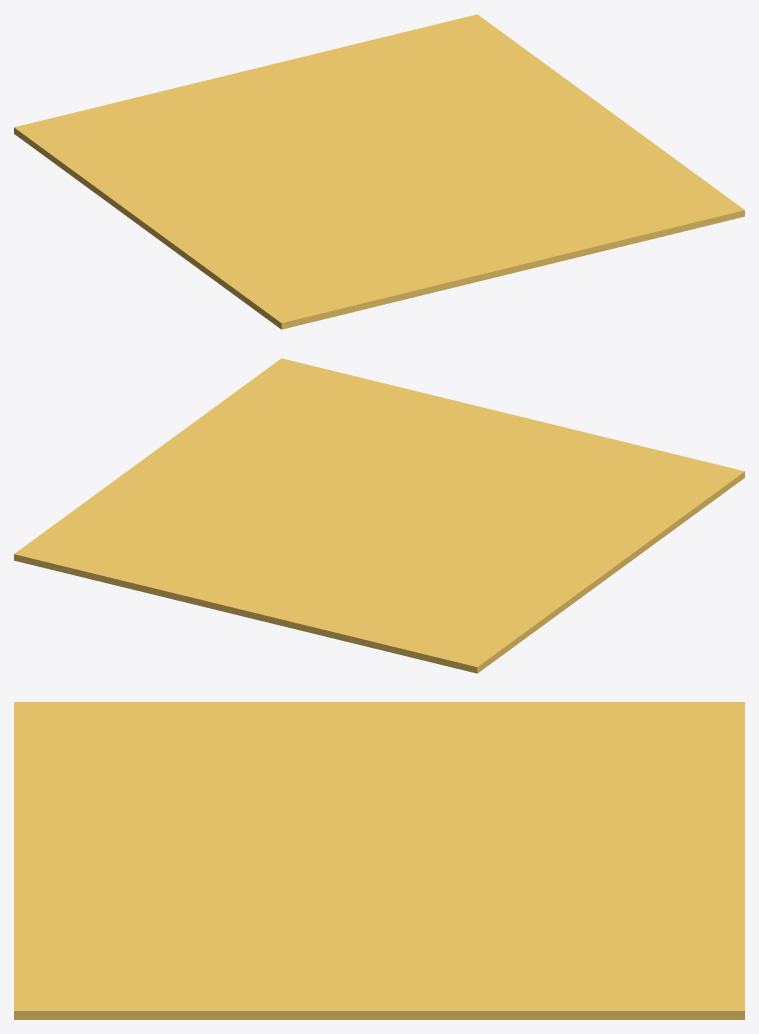
File: cheese.glb
The picture shows the model from 3 angles, top to bottom: view 1: azimuth 30°, elevation 25°; view 2: azimuth 150°, elevation 25°; view 3: azimuth 270°, elevation 25°; orthographic projection. The views are drawn at different scales.
Parts seen in each view (by area): view 1: Cube; view 2: Cube; view 3: Cube.
Part boxes in pixels (x1,y1,x2,y2): Cube: (14, 14, 744, 329); Cube: (14, 358, 744, 673); Cube: (14, 702, 744, 1019).
Bounding box in the file's own units: 15 × 0.2 × 15.
Materials: 1 (1 with a texture image).
